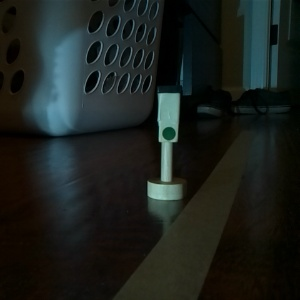traffic light green: (144, 84, 190, 202)
